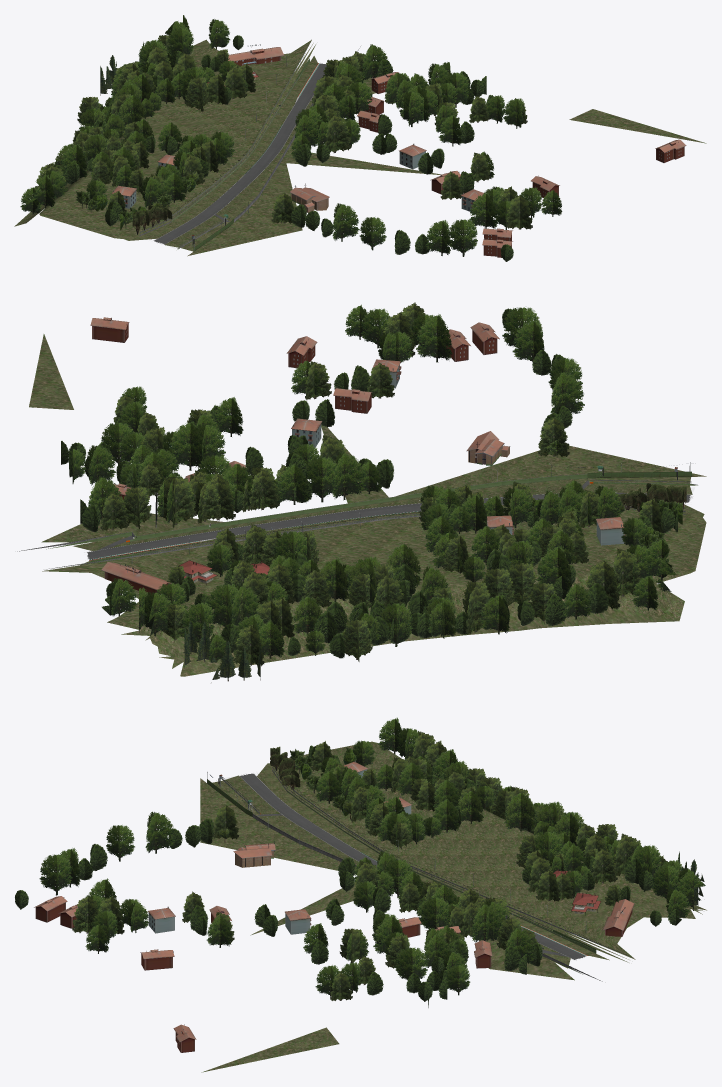
3 views of the same model, one above another, from view 1: azimuth 30°, elevation 25°; view 2: azimuth 150°, elevation 25°; view 3: azimuth 270°, elevation 25° (orthographic). The views are drawn at different scales.
Visible parts, largest first — view 1: tile_t13; view 2: tile_t13; view 3: tile_t13.
Part boxes in pixels (box(x1,y1,x2,y2)): tile_t13: box(14, 15, 706, 261); tile_t13: box(17, 302, 706, 682); tile_t13: box(15, 717, 706, 1072).
Size of the model in its own units: 487 by 52.49 by 448.
Materials: 22 (22 with a texture image).
